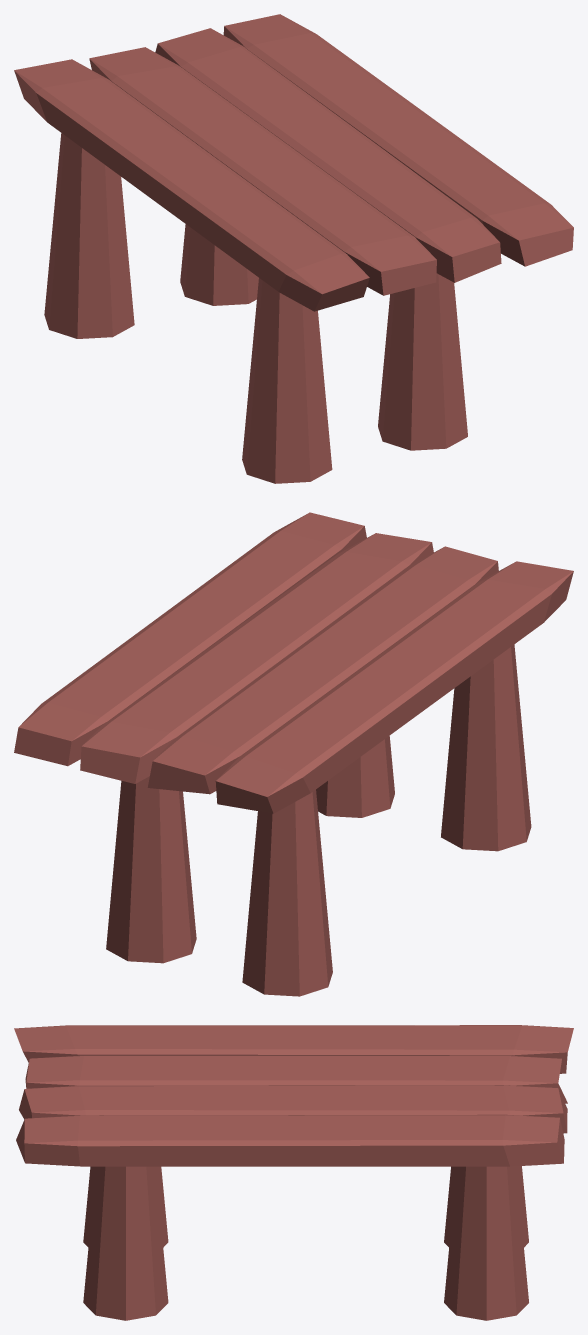
File: table.fbx
3 views of the same model, one above another, from view 1: azimuth 30°, elevation 25°; view 2: azimuth 150°, elevation 25°; view 3: azimuth 270°, elevation 25° (orthographic). The views are drawn at different scales.
Visible parts, largest first — view 1: Tabletop, Leg1, Leg2; view 2: Tabletop, Leg2, Leg1; view 3: Tabletop, Leg1, Leg2.
Part boxes in pixels (bbox=[...]): Tabletop: bbox=[14, 14, 573, 311]; Leg1: bbox=[242, 273, 467, 483]; Leg2: bbox=[44, 133, 258, 338]; Tabletop: bbox=[14, 512, 573, 813]; Leg2: bbox=[106, 776, 332, 996]; Leg1: bbox=[316, 644, 531, 851]; Tabletop: bbox=[14, 1025, 573, 1166]; Leg1: bbox=[83, 1166, 168, 1320]; Leg2: bbox=[444, 1166, 528, 1320].
Size of the model in its own units: 329 by 254 by 628.
